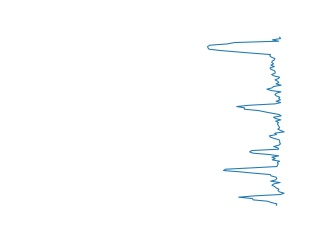distalBar: (205, 35, 286, 86)
interdistributaryEstuary: (233, 85, 286, 144)
underwaterNaturalLevee: (221, 145, 287, 208)
